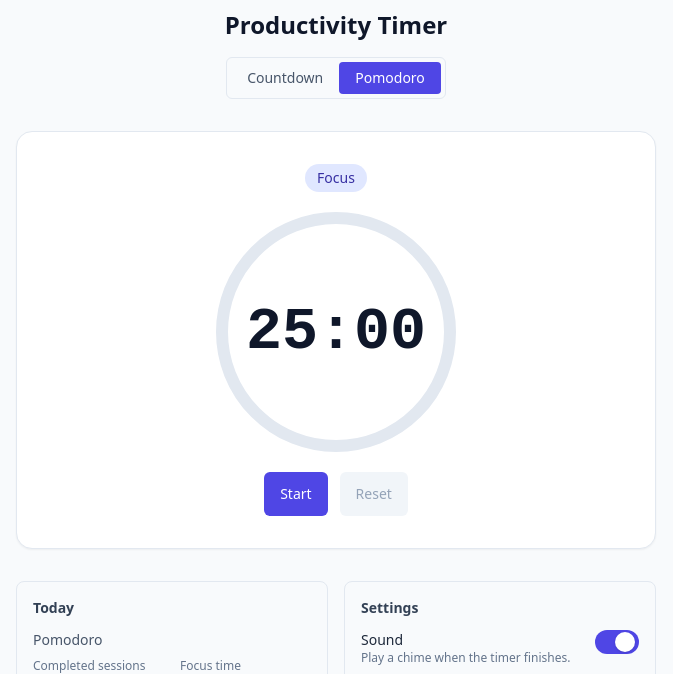
Test case: Pomodoro break completion › does not change focus statistics and advances back to focus
Click the button "Start" at (296, 494), box [264,472,328,516]
Wait 250 ms
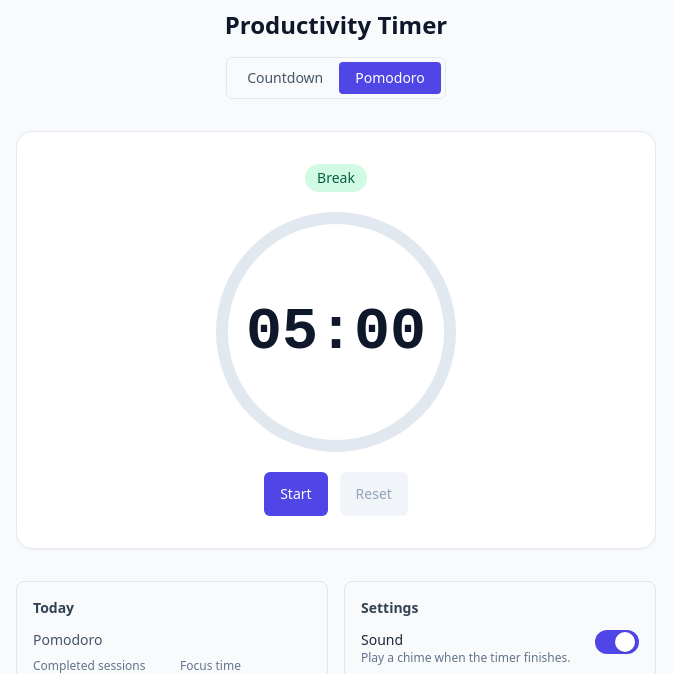
expect the text "Break" is shown: met, box [305,164,367,192]
Click the button "Start" at (296, 494), box [264,472,328,516]
Wait 250 ms
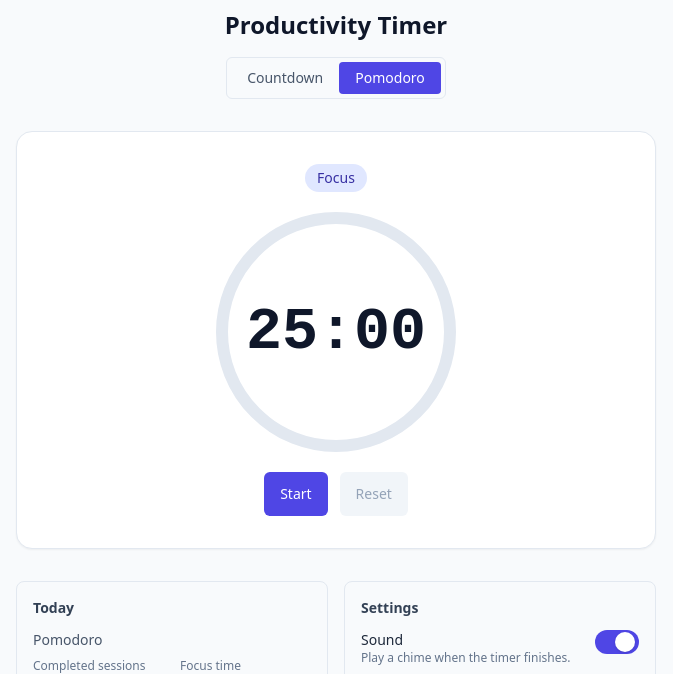
expect the text "Focus" is shown: met, box [305,164,367,192]
expect the text "25:00" is shown: met, box [246,302,426,362]
